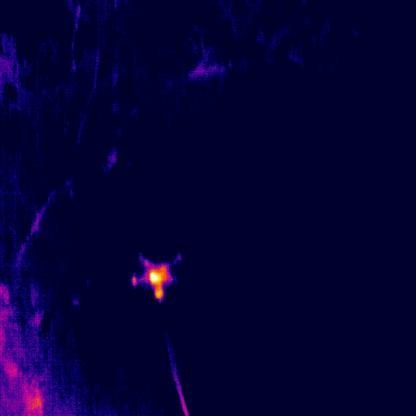drone: (130, 251, 183, 300)
